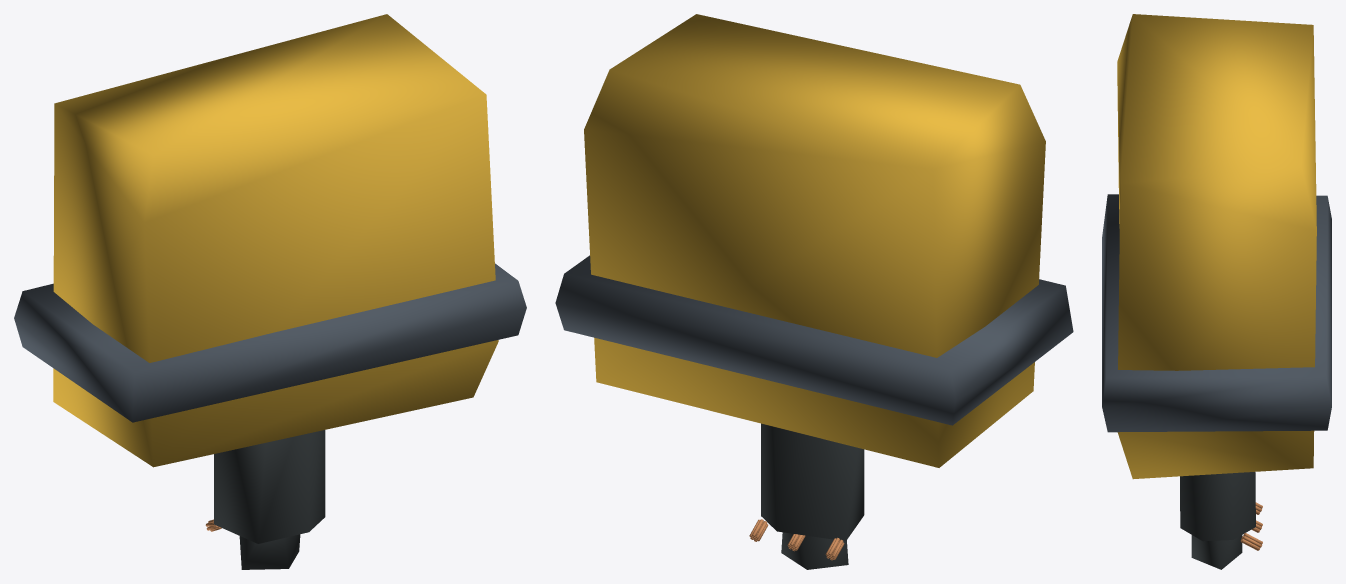
Rendered from selector_float-changeover.low.glb.
3 views of the same model, side by side, from view 1: azimuth 30°, elevation 25°; view 2: azimuth 150°, elevation 25°; view 3: azimuth 270°, elevation 25° (orthographic). The views are drawn at different scales.
Parts seen in each view (by area): view 1: node-4, node-5, node-3 · Original material.002; view 2: node-4, node-5, node-3 · Original material.002; view 3: node-4, node-5, node-3 · Original material.002.
Part boxes in pixels (x1,y1,x2,y2): node-4: (53, 14, 498, 467); node-5: (14, 263, 526, 422); node-3 · Original material.002: (214, 430, 325, 569); node-4: (584, 14, 1045, 467); node-5: (555, 255, 1073, 425); node-3 · Original material.002: (761, 423, 864, 569); node-4: (1117, 14, 1316, 479); node-5: (1102, 194, 1331, 432); node-3 · Original material.002: (1180, 472, 1255, 569).
Bounding box in the file's own units: 0.9825 × 1.13 × 0.5068.
